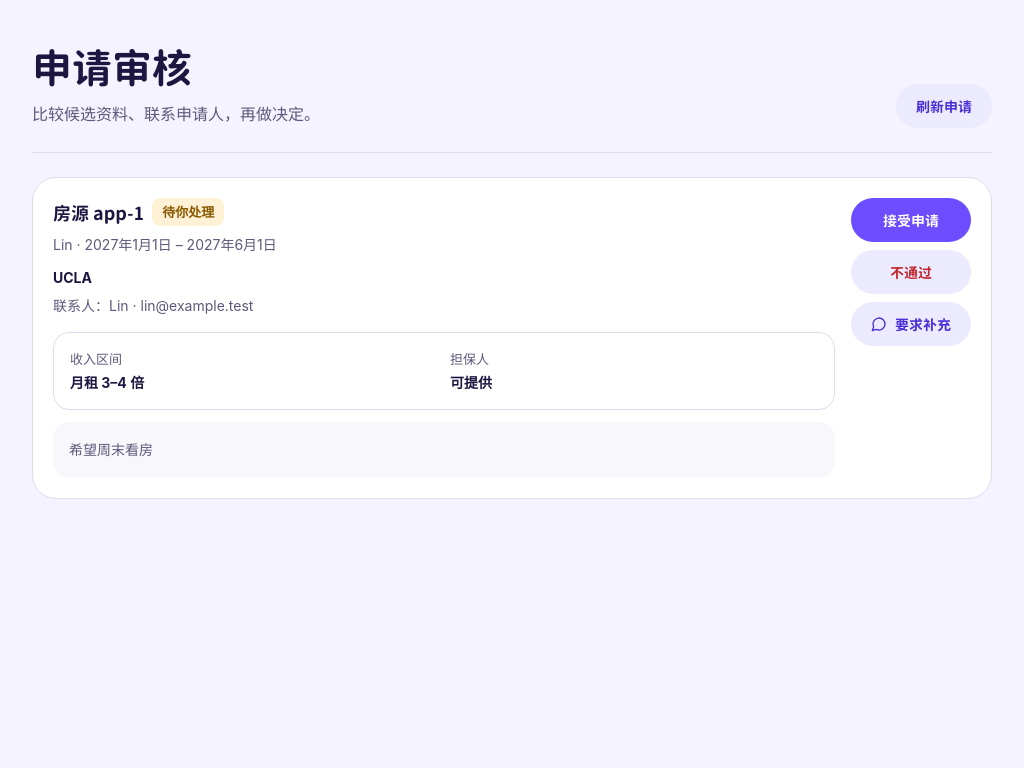
Scenario: keeps a successful accept visible when refreshing the list fails
Click the button "接受申请".
click(911, 220)  # box [851,198,971,242]
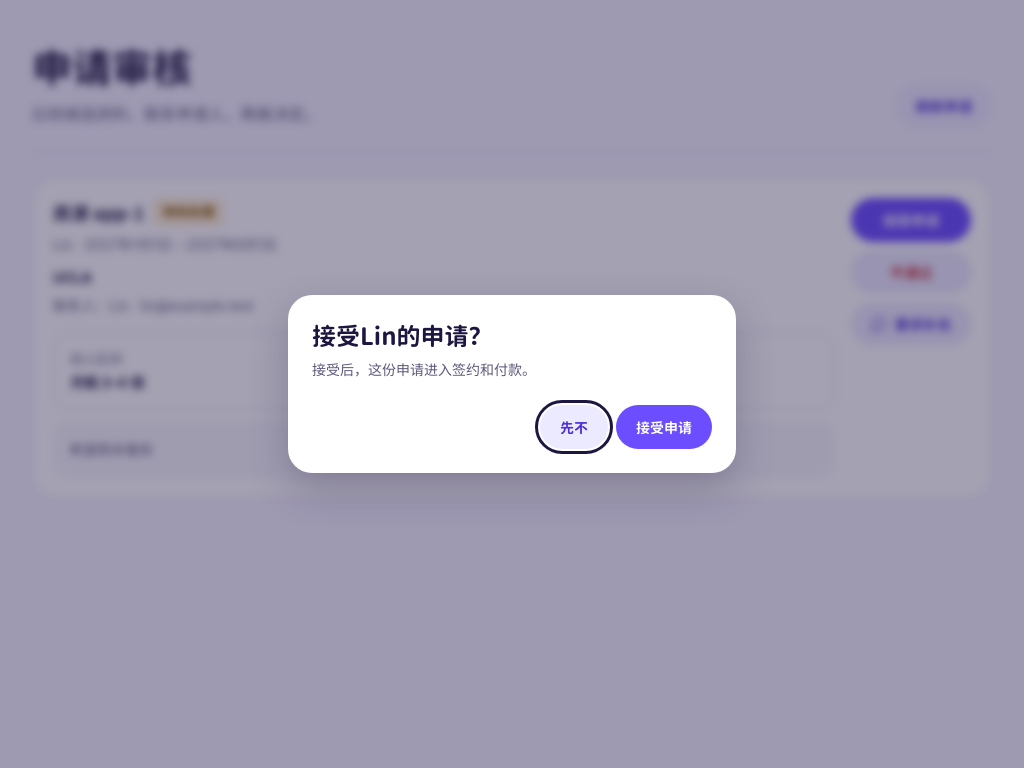
Click the button "接受申请".
click(664, 427)  # box [616,405,712,449]
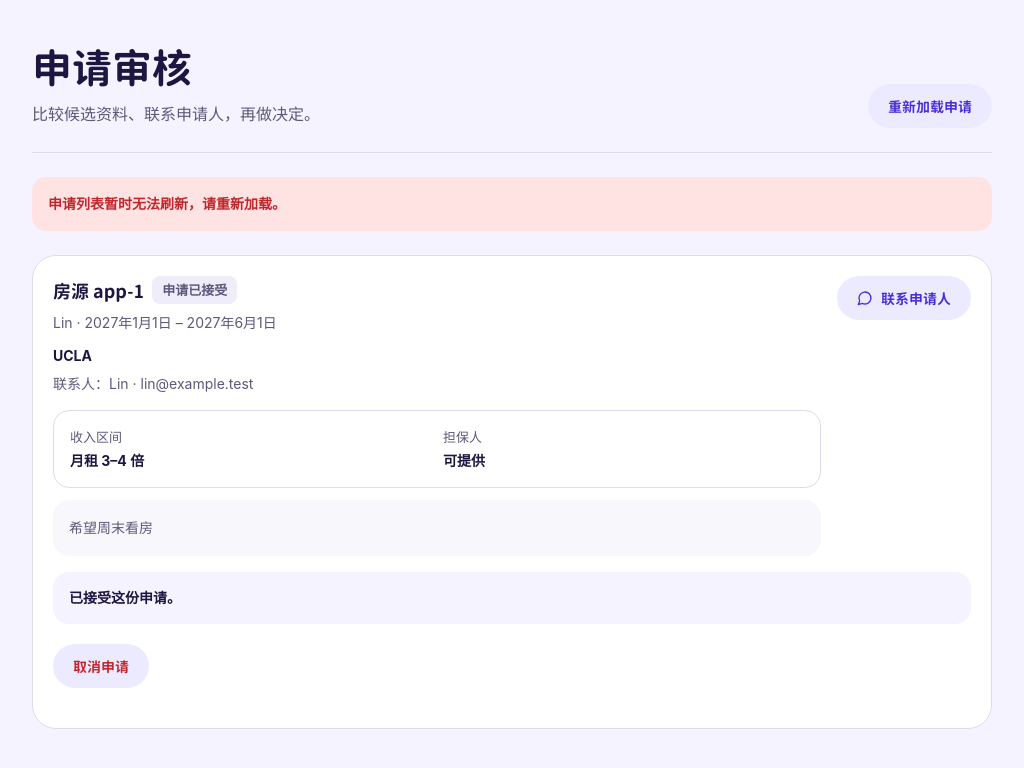
Check: the text "申请已接受" is shown, box [152,276,237,304]
Check: the button "不通过" is gone
Check: the button "重新加载申请" is shown, box [868,84,992,128]
